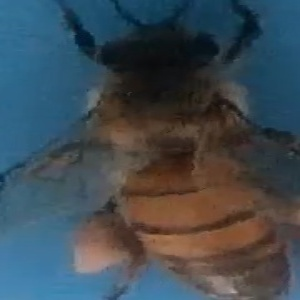bee: (47, 1, 300, 300)
